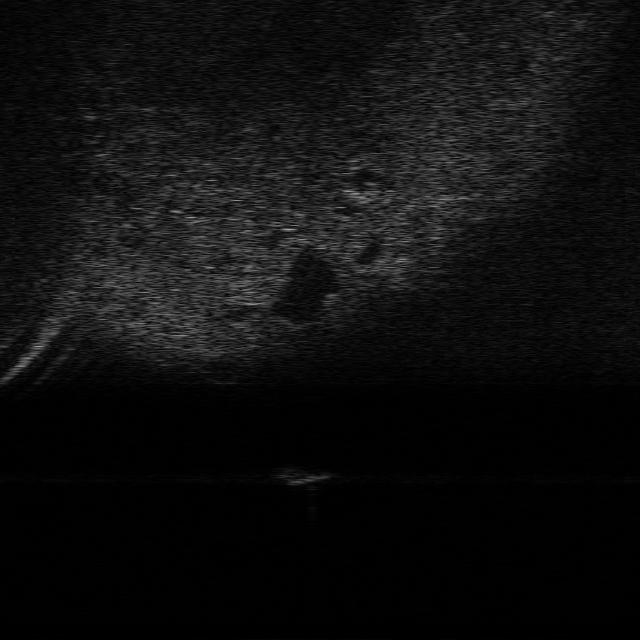cube: (274, 463, 334, 486)
